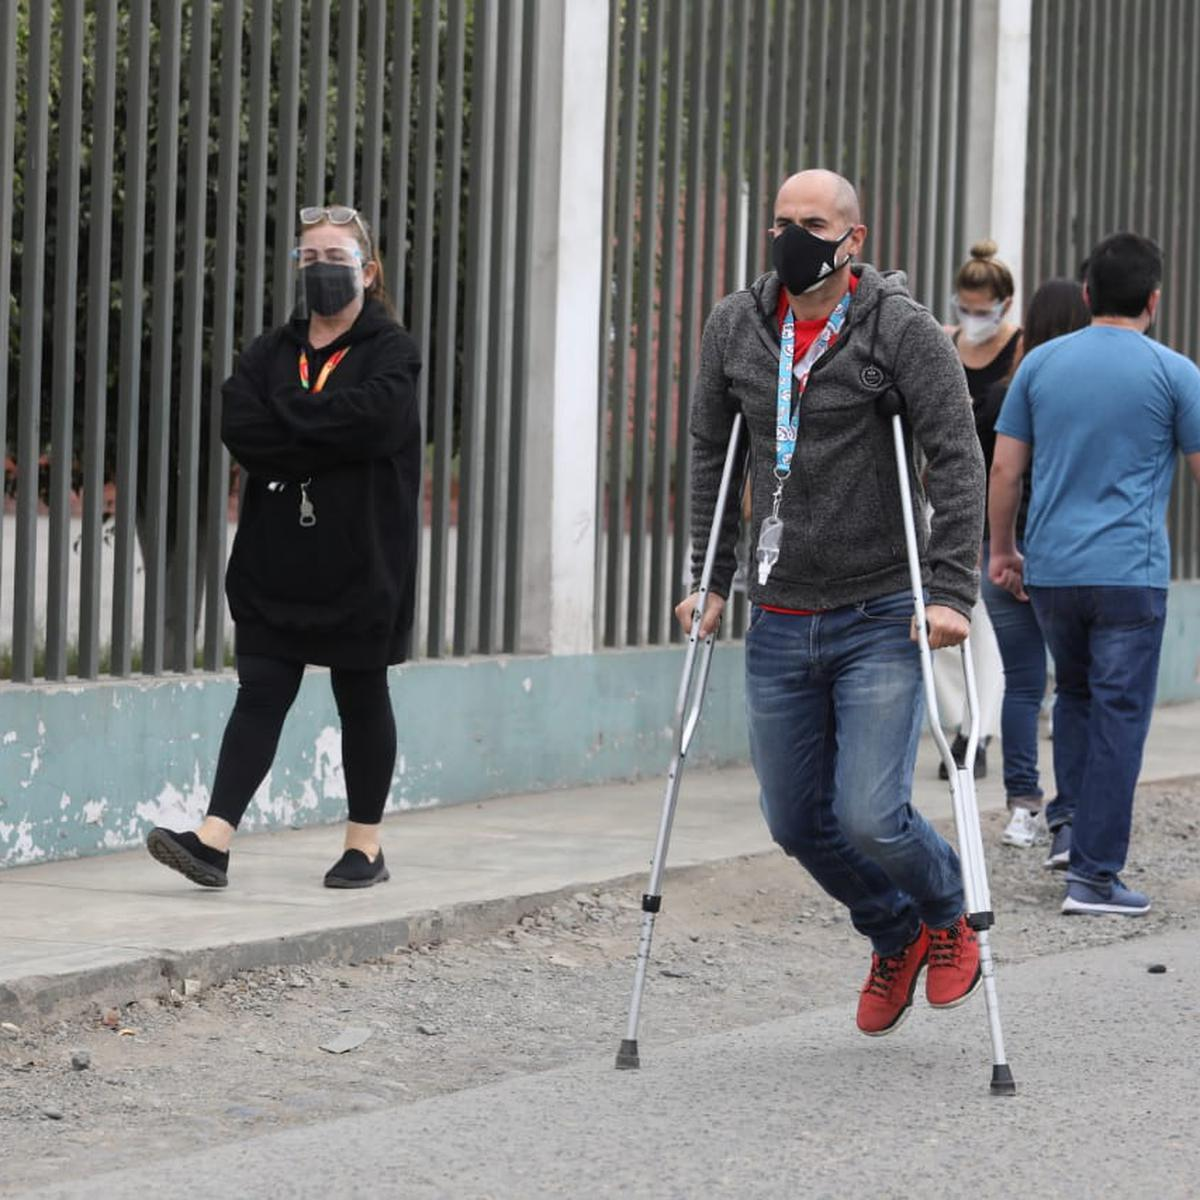crutches: (612, 148, 1026, 1126)
